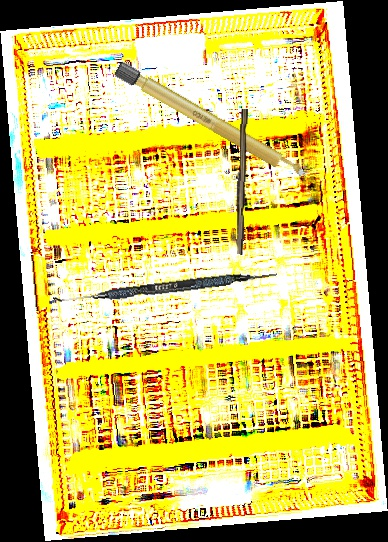Scalpel Handle: (111, 59, 313, 187), (234, 108, 248, 255)
Spatula Surgical: (53, 265, 278, 310)
